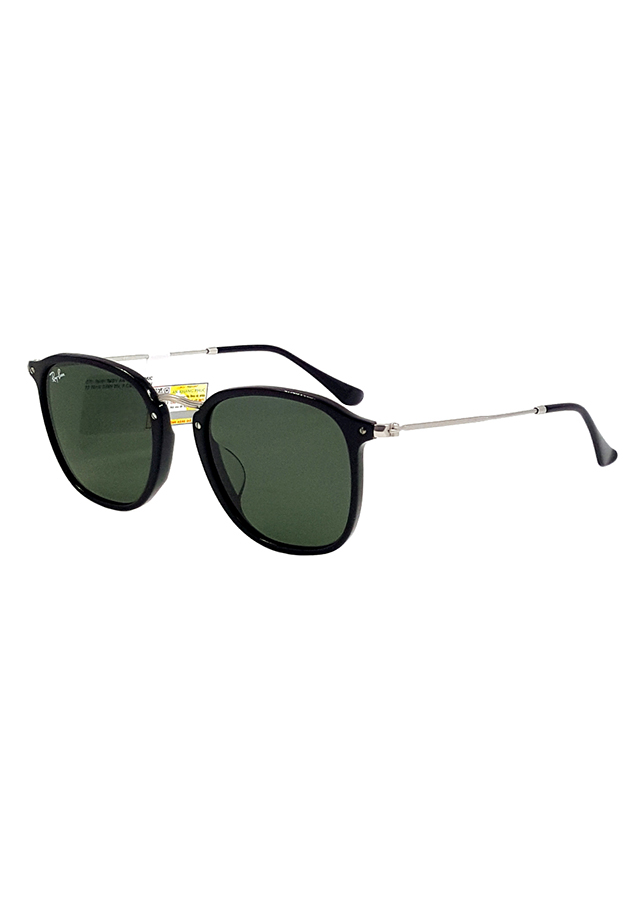Rayban: (43, 363, 73, 385)
